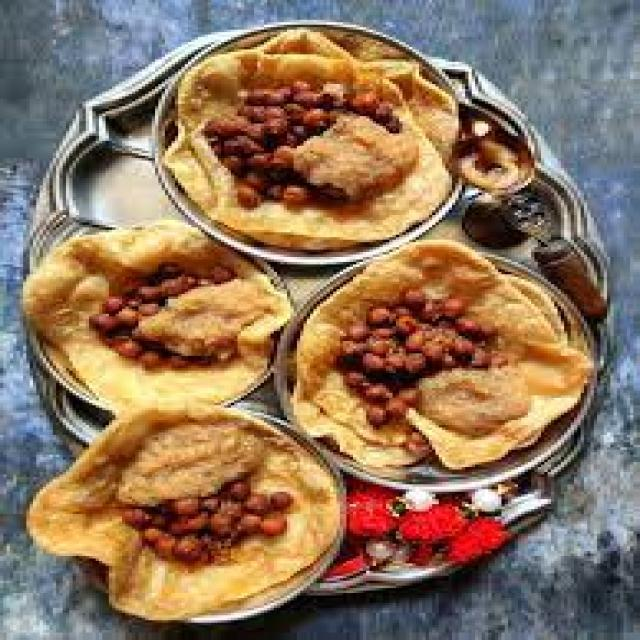roti: (166, 32, 464, 256), (297, 252, 607, 467)
veg-fry: (27, 211, 286, 416)
